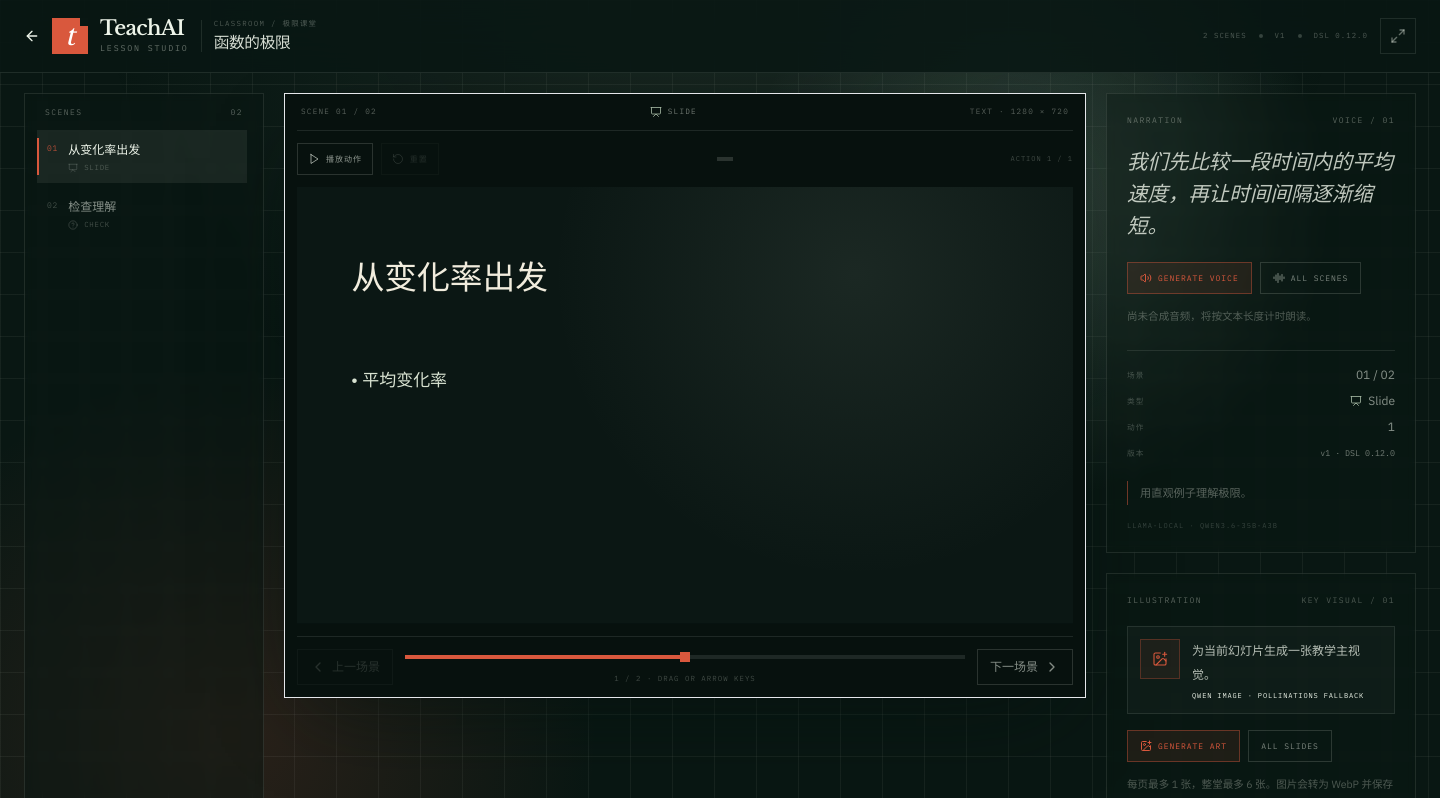
Test: ClassroomExperience › submits a quiz answer and shows the graded result
The image size is (1440, 798).
Click the button "下一场景" at point(1025, 666), box 977,648 -> 1073,684
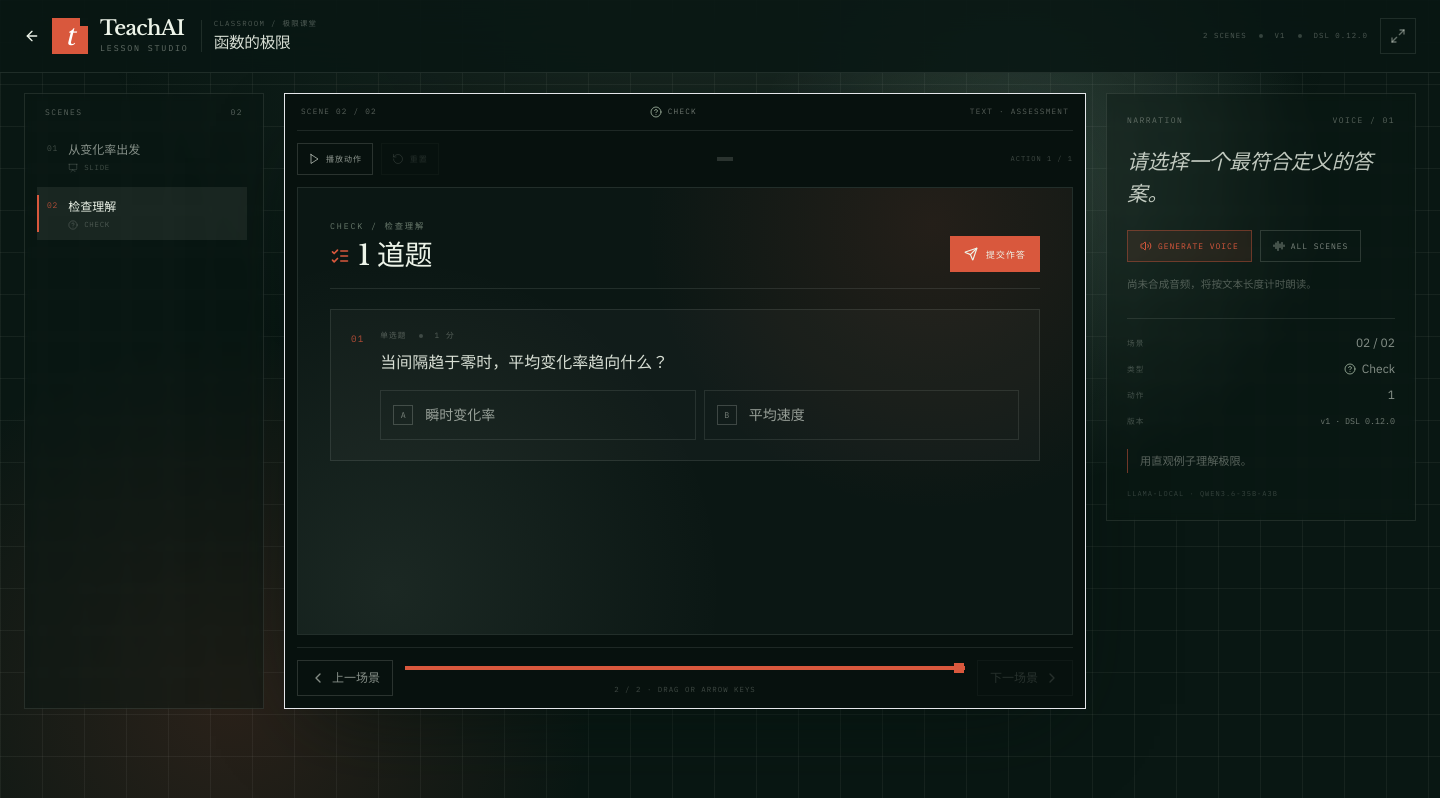
Expected: the heading "当间隔趋于零时，平均变化率趋向什么？" is shown, 380,352 -> 668,372
Expected: the text "请选择一个最符合定义的答案。" is shown, 1127,146 -> 1395,210
Click the button "A 瞬时变化率" at point(460, 415), box 380,390 -> 696,440
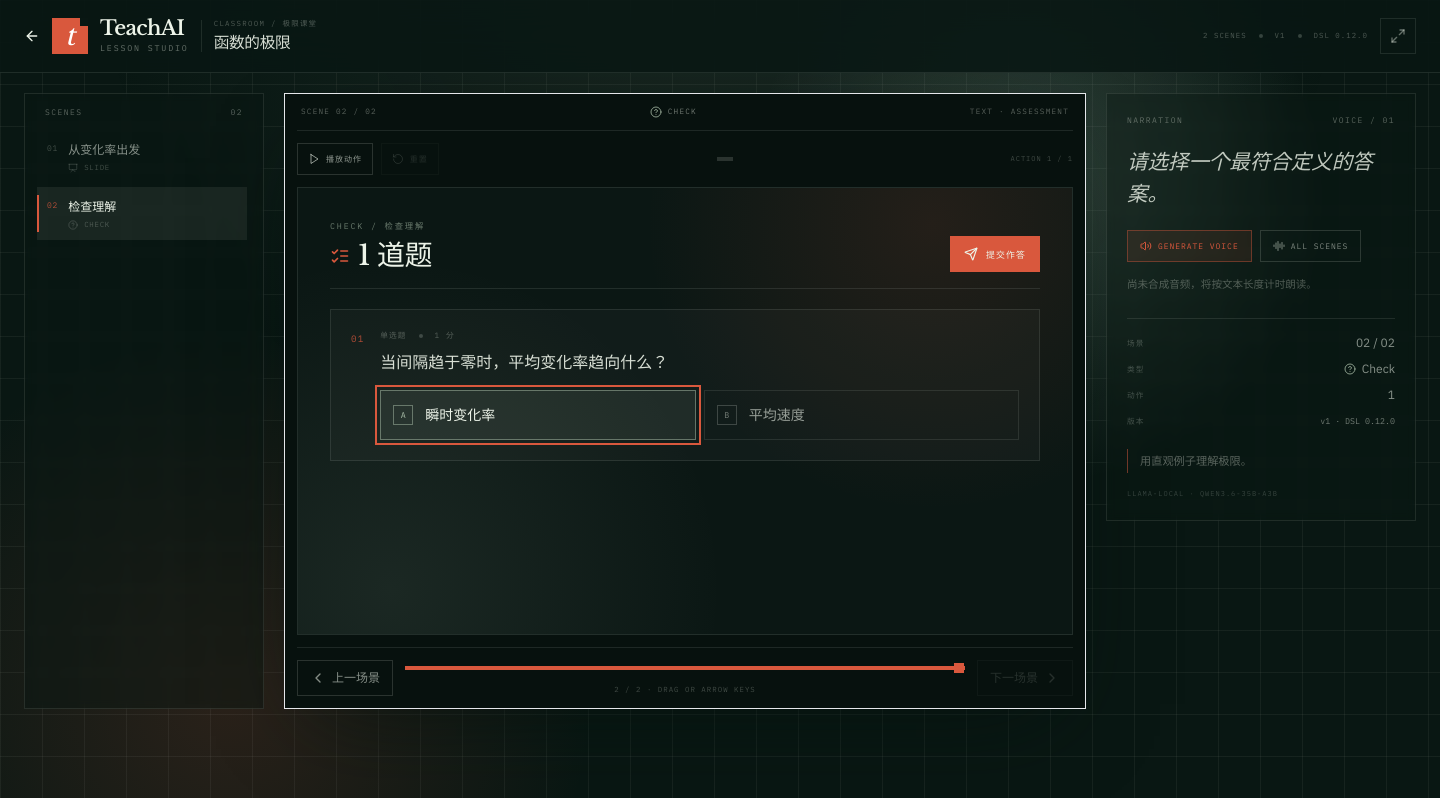
Click the button "提交作答" at point(995, 254), box 950,236 -> 1040,272
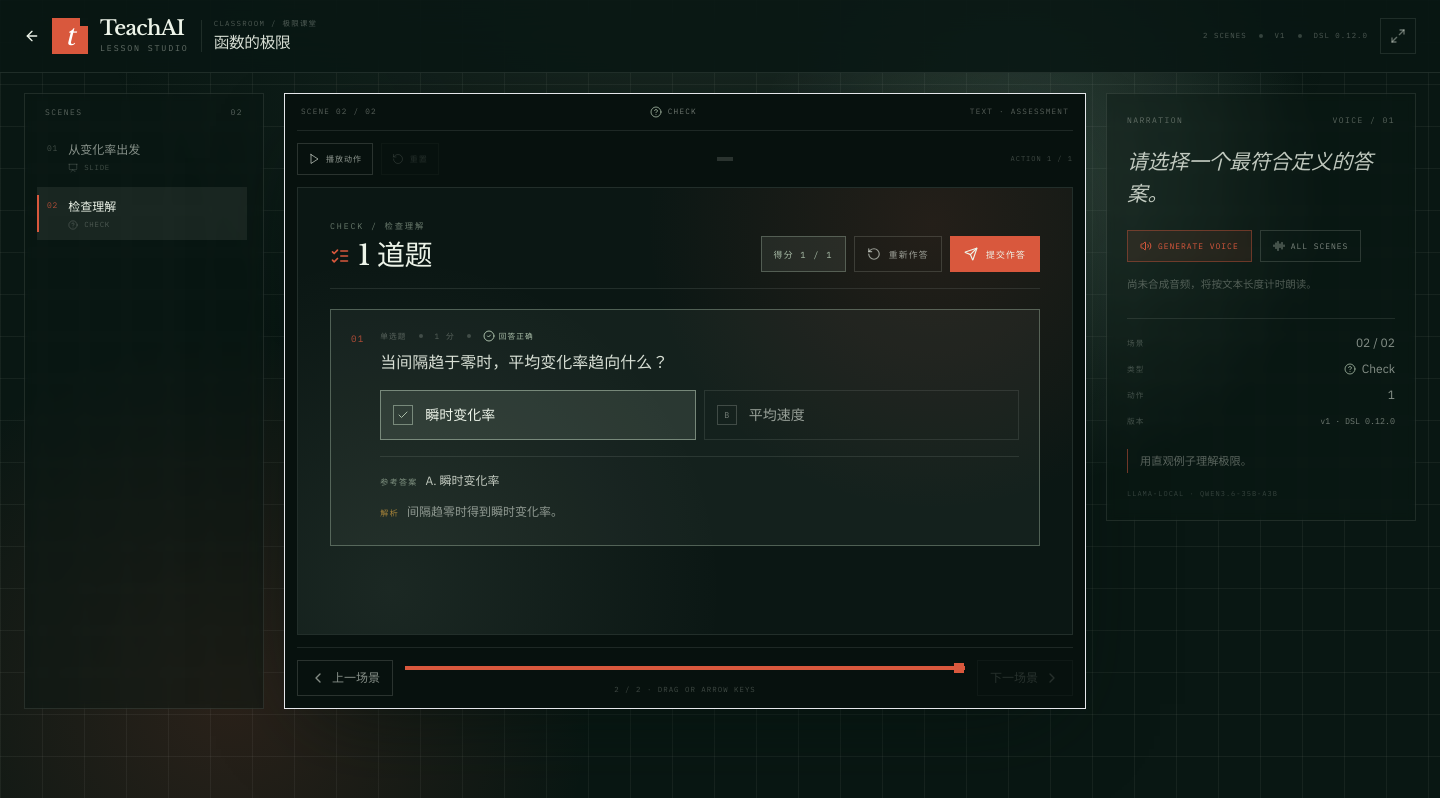
Expected: the text "得分 1 / 1" is shown, 761,236 -> 846,272
Expected: the text "回答正确" is shown, 483,330 -> 534,342
Expected: the text "参考答案" is shown, 380,478 -> 418,488
